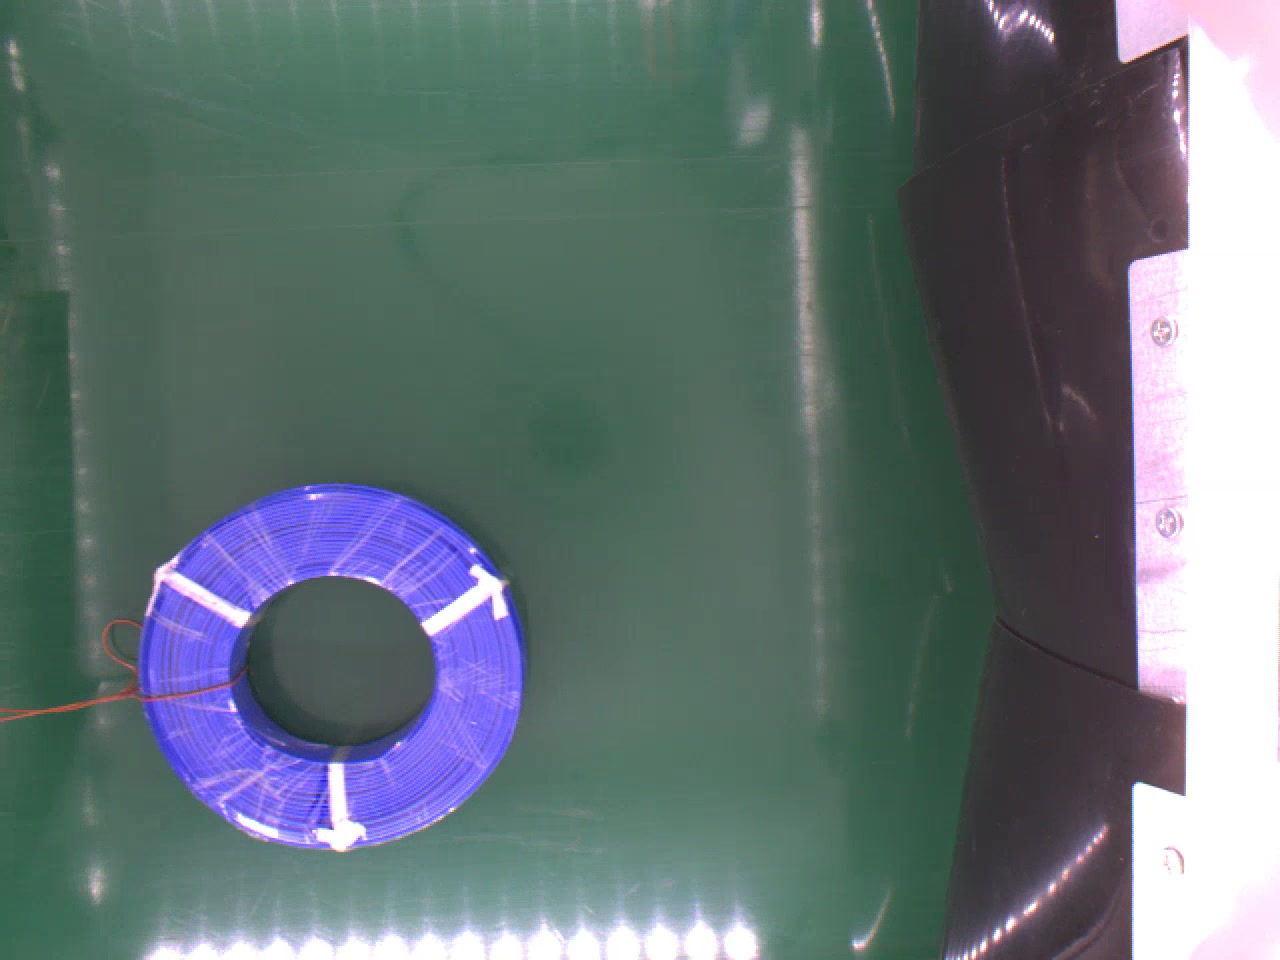blue: (136, 477, 524, 859)
